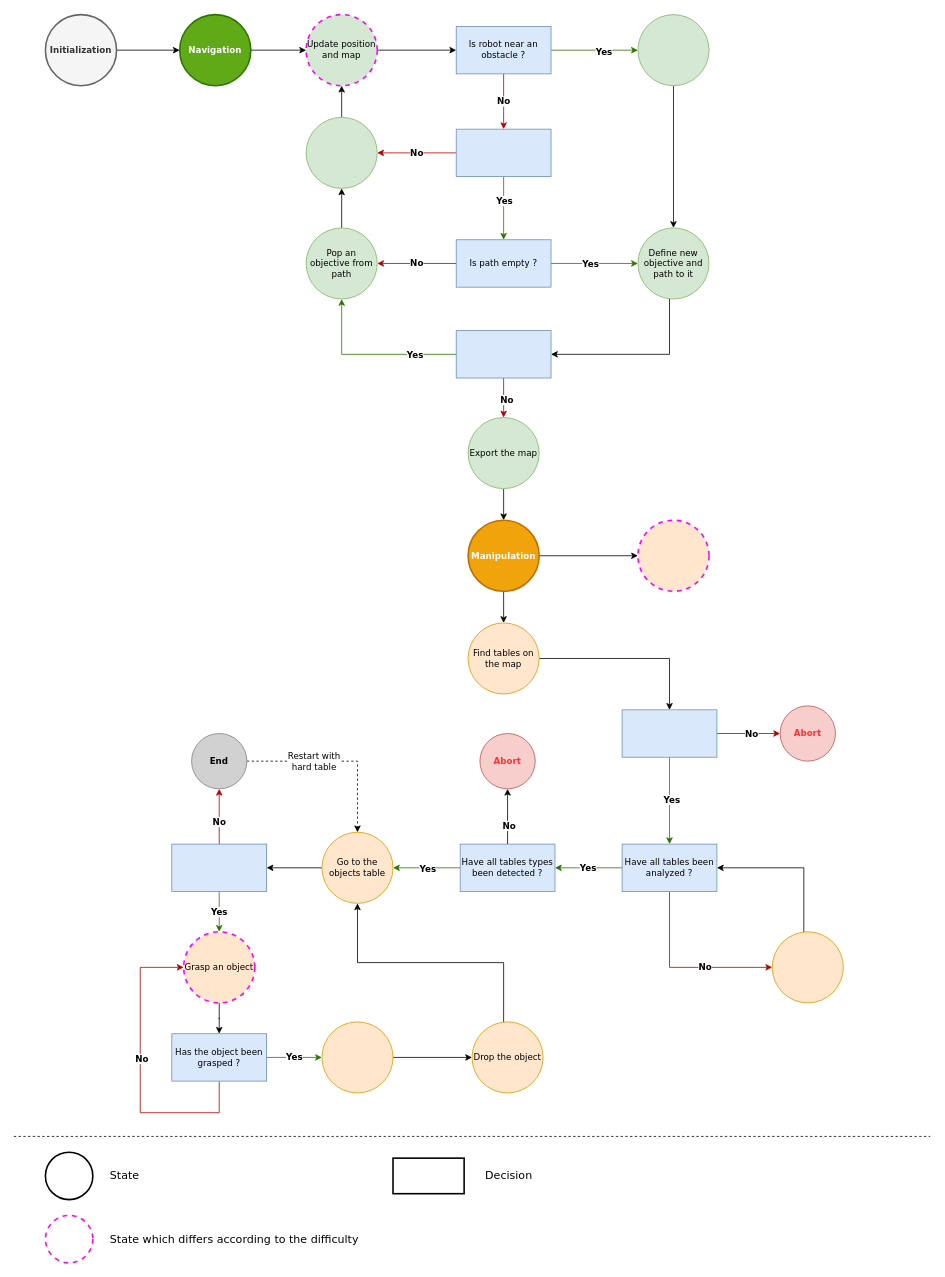
The diagram is 945 pixels wide and 1277 high, and some of its shapes have lost their labels. The centre of each missing label's shape, as x and y in pixels:
"Are there still objects on the table?" goes at point (219, 867).
"Are there still points to explore ?" goes at point (503, 354).
"Go to a table and analyze it" goes at point (807, 967).
"Go to the objective table" goes at point (357, 1057).
"Have all the tables been found ?" goes at point (669, 733).
"Is current objective accomplished ?" goes at point (503, 152).
"Move the robot to objective" goes at point (341, 152).
"Reset path and objective" goes at point (673, 50).
"Update position at each iteration" goes at point (673, 555).
